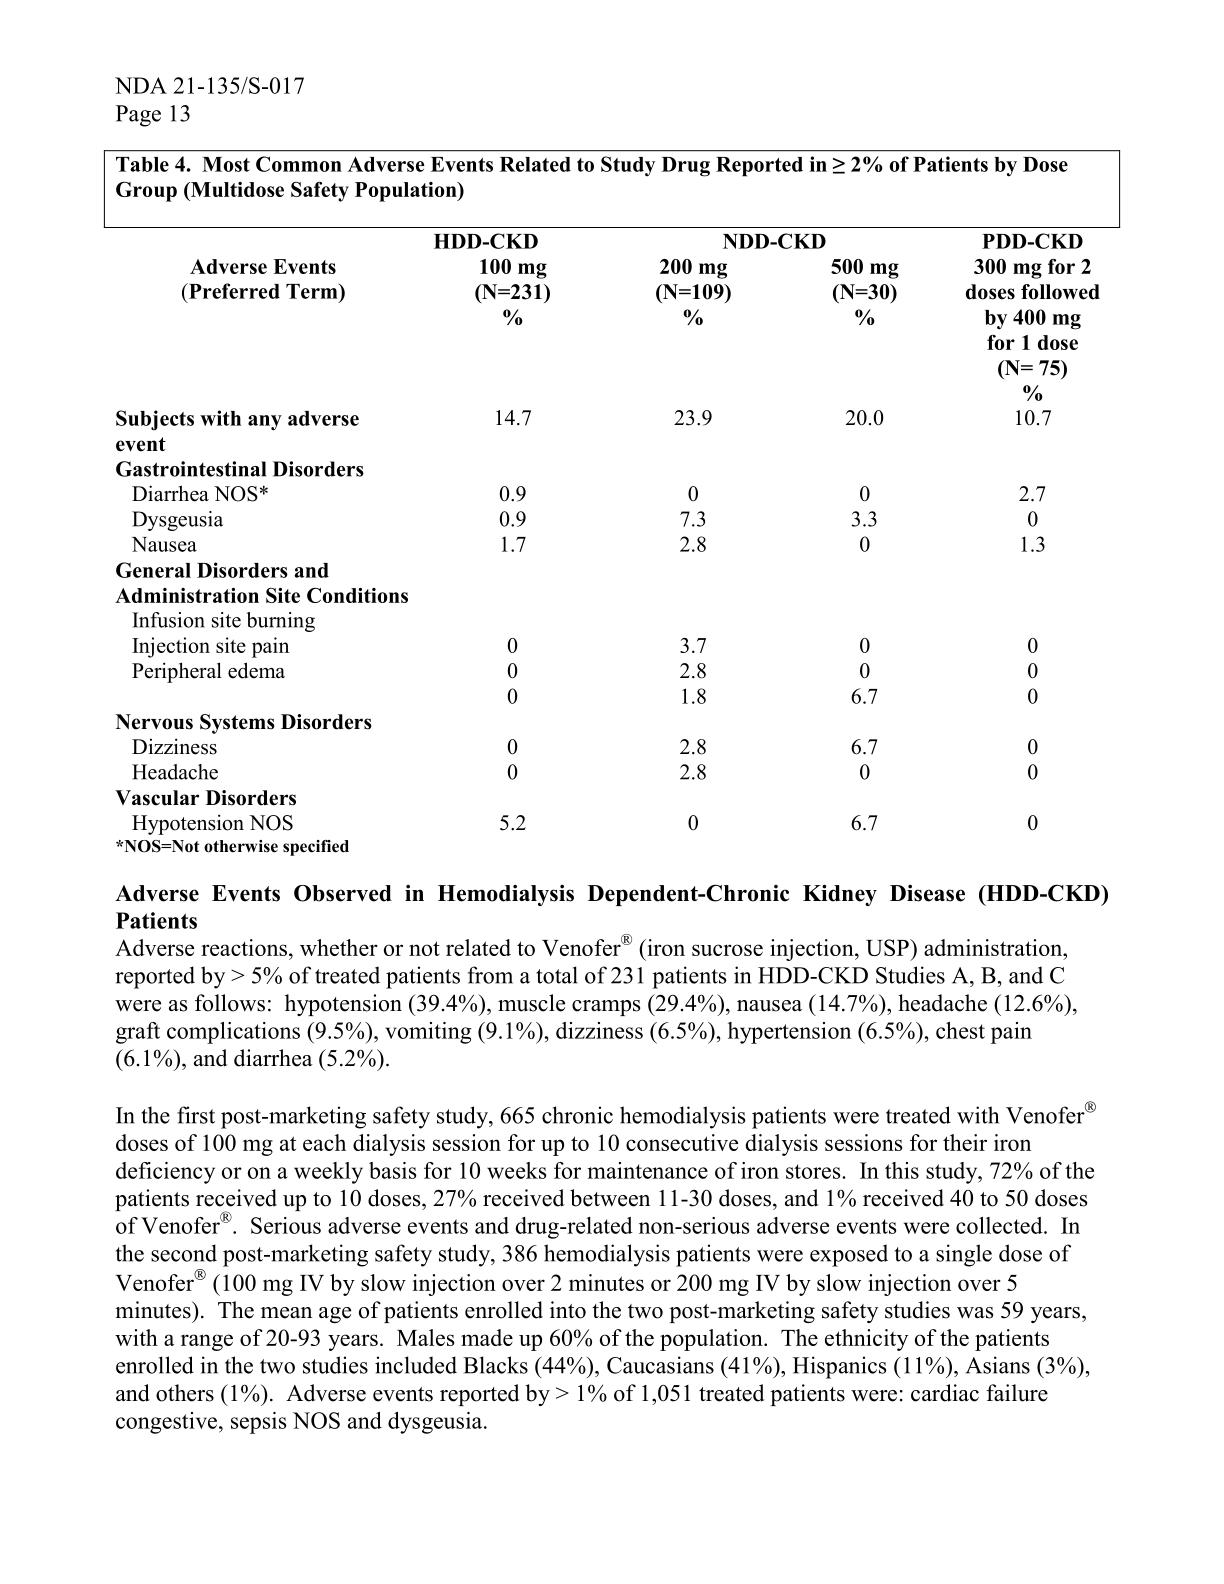nolines: (114, 231, 1103, 858)
